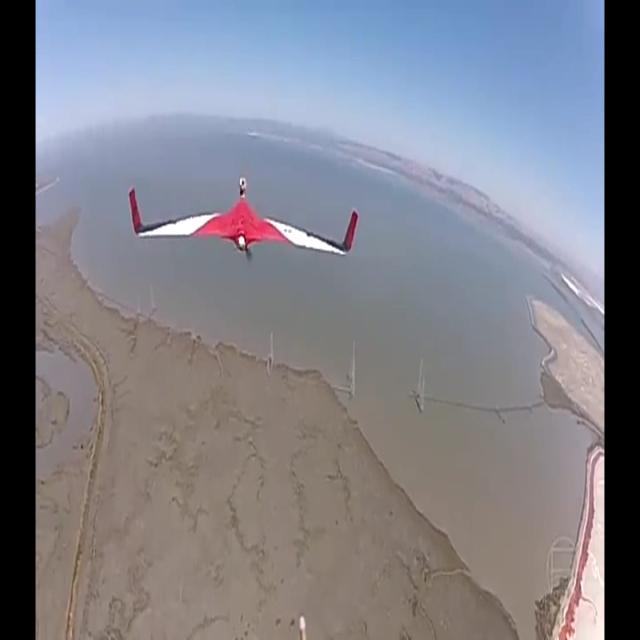iha: (128, 205, 359, 233)
